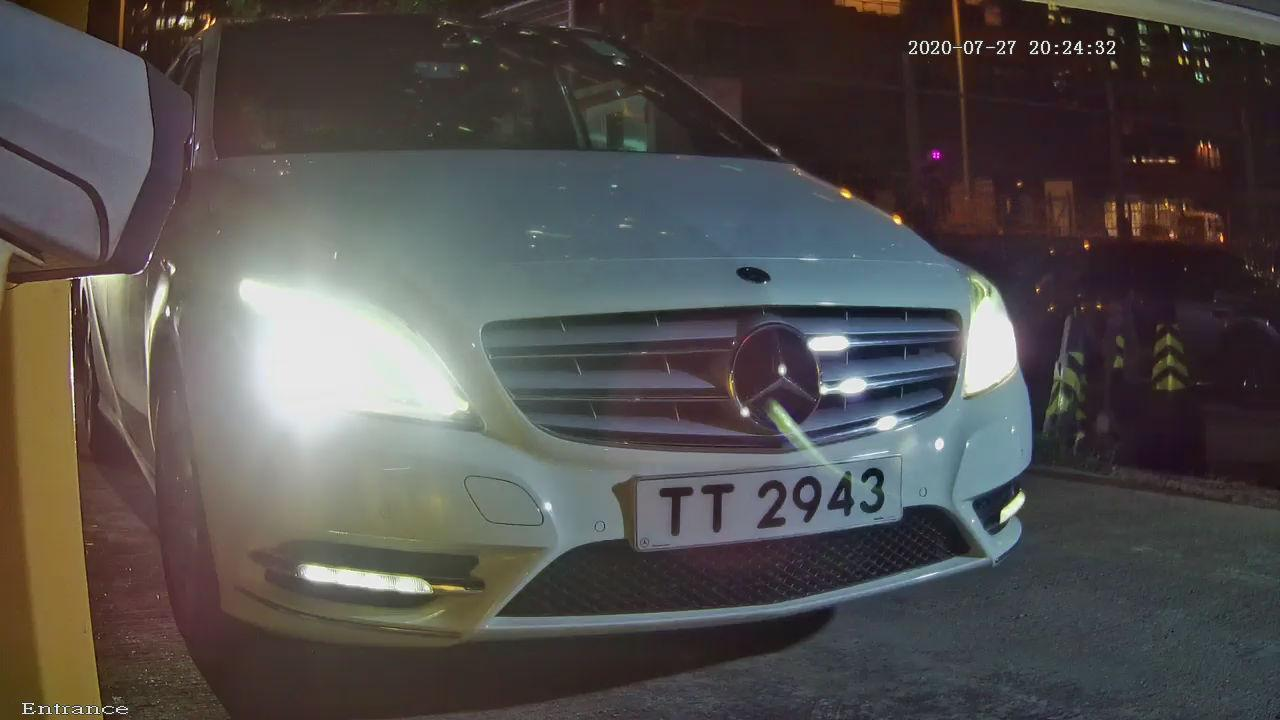privatecar: (126, 20, 1069, 682)
